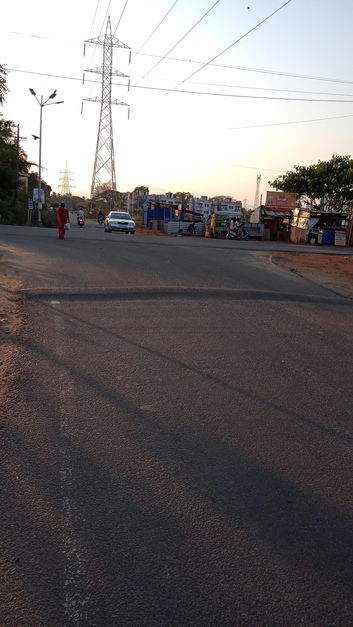bump: (21, 283, 353, 308)
